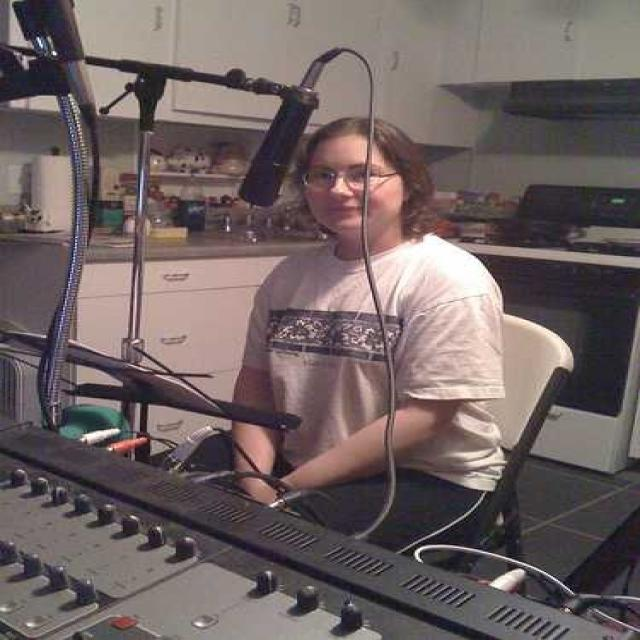microphone: (238, 87, 317, 208)
